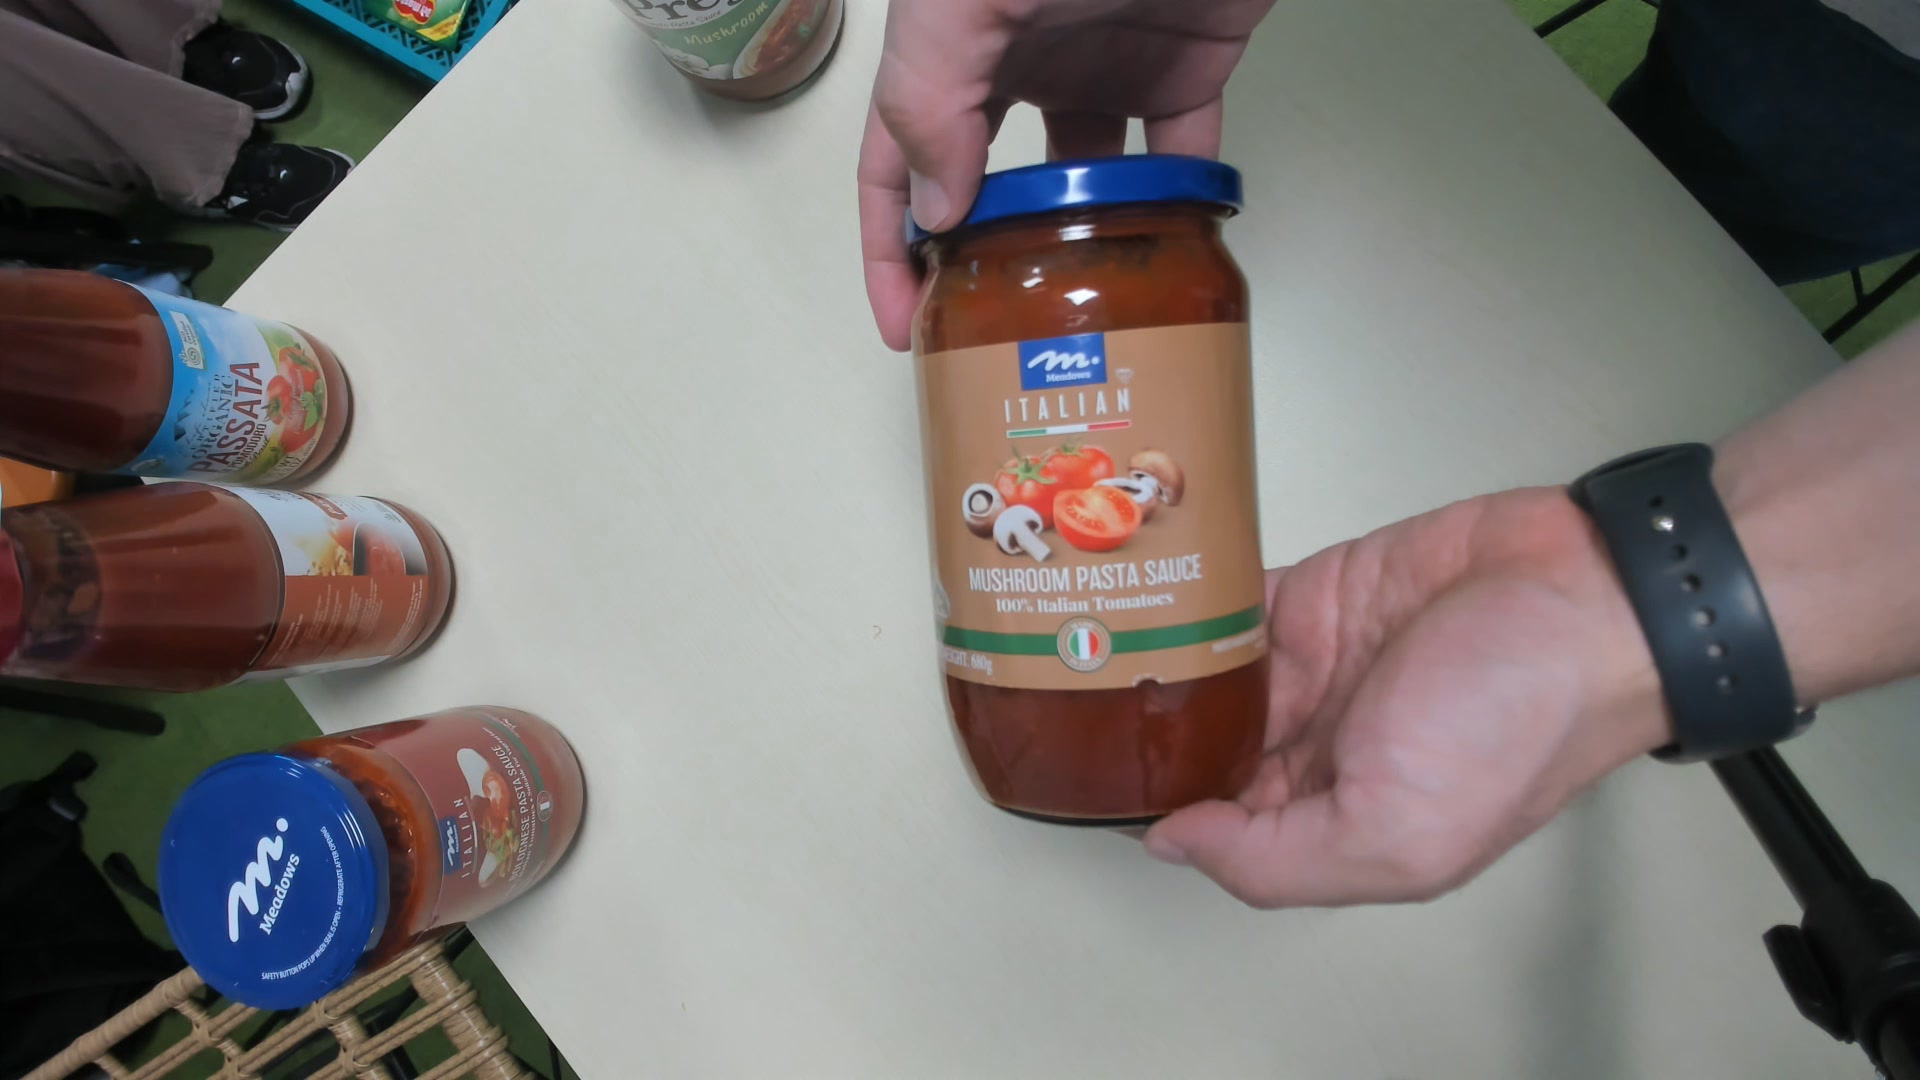PastaSauce_600-699g_Halal_NonHealthy: (918, 162, 1269, 822)
